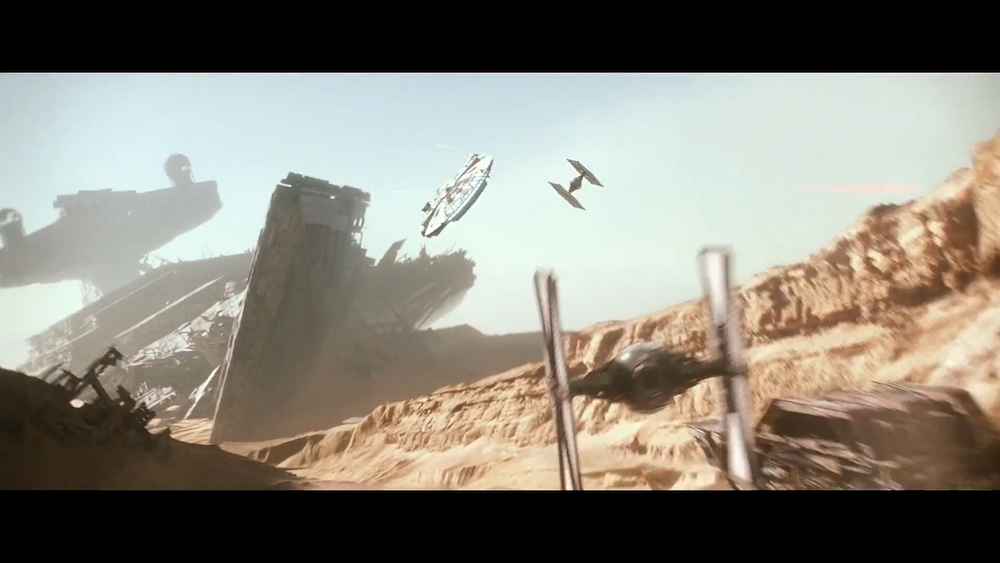Millennium Falcon: (420, 153, 496, 240)
Tie Fighter: (533, 247, 764, 491), (547, 159, 605, 212)
